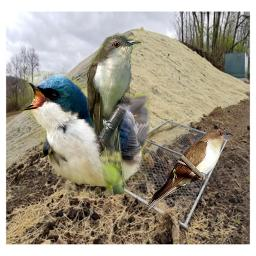Cuckoo: (87, 30, 142, 194), (148, 128, 234, 211)
Swallow: (18, 71, 150, 195)
